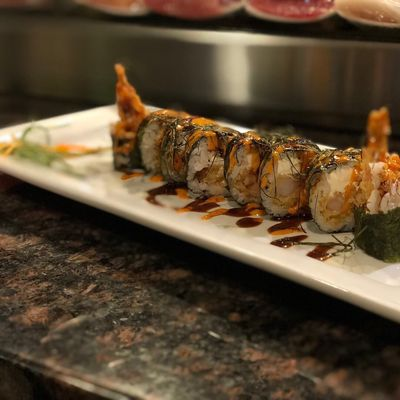salad: (109, 63, 394, 221)
sushi: (109, 63, 394, 221)
